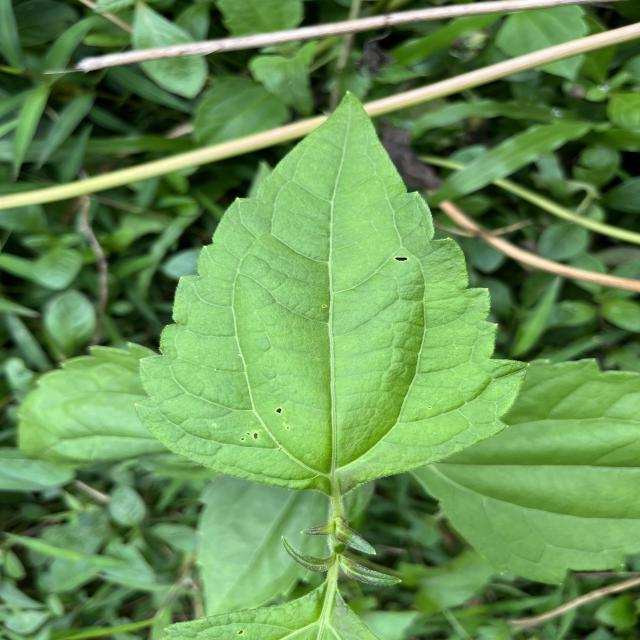Chromolaena odorata: (128, 86, 536, 502)
